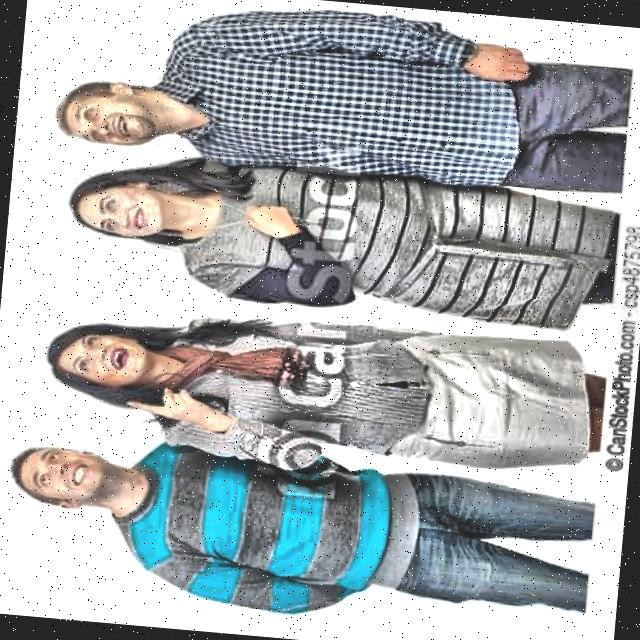happy: (41, 58, 164, 158), (72, 163, 180, 252)
neutral: (9, 437, 144, 526), (42, 311, 158, 406)
